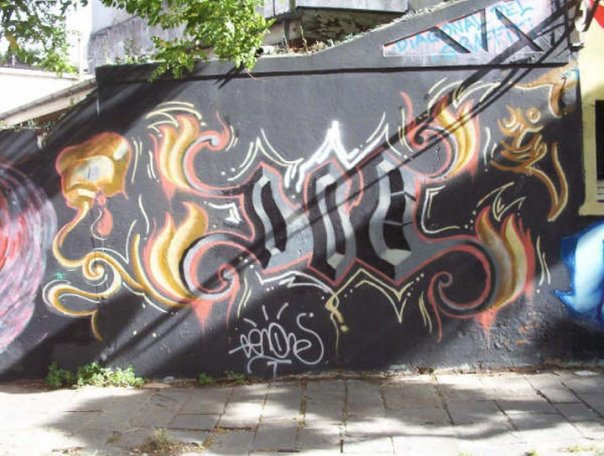graffity: (9, 63, 581, 361), (223, 299, 333, 376), (557, 214, 604, 333)
